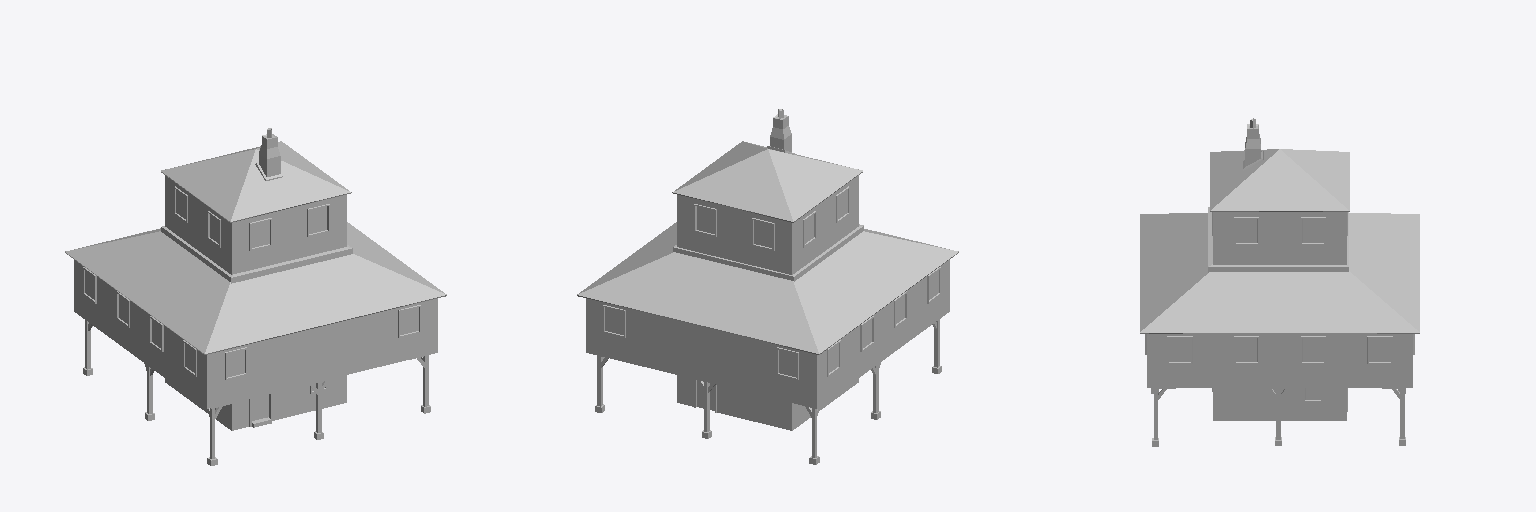
Rendered from medieval_building_6.obj.
3 renders of one model, left to right at view 1: azimuth 30°, elevation 25°; view 2: azimuth 150°, elevation 25°; view 3: azimuth 270°, elevation 25°, orthographic.
Visible parts, largest first — view 1: objbuilding_; view 2: objbuilding_; view 3: objbuilding_.
Boxes of the visible parts, <box> form: objbuilding_: <box>65,128,446,465</box>; objbuilding_: <box>577,109,958,464</box>; objbuilding_: <box>1140,118,1419,446</box>.
Bounding box in the file's own units: 42 × 45.15 × 42.